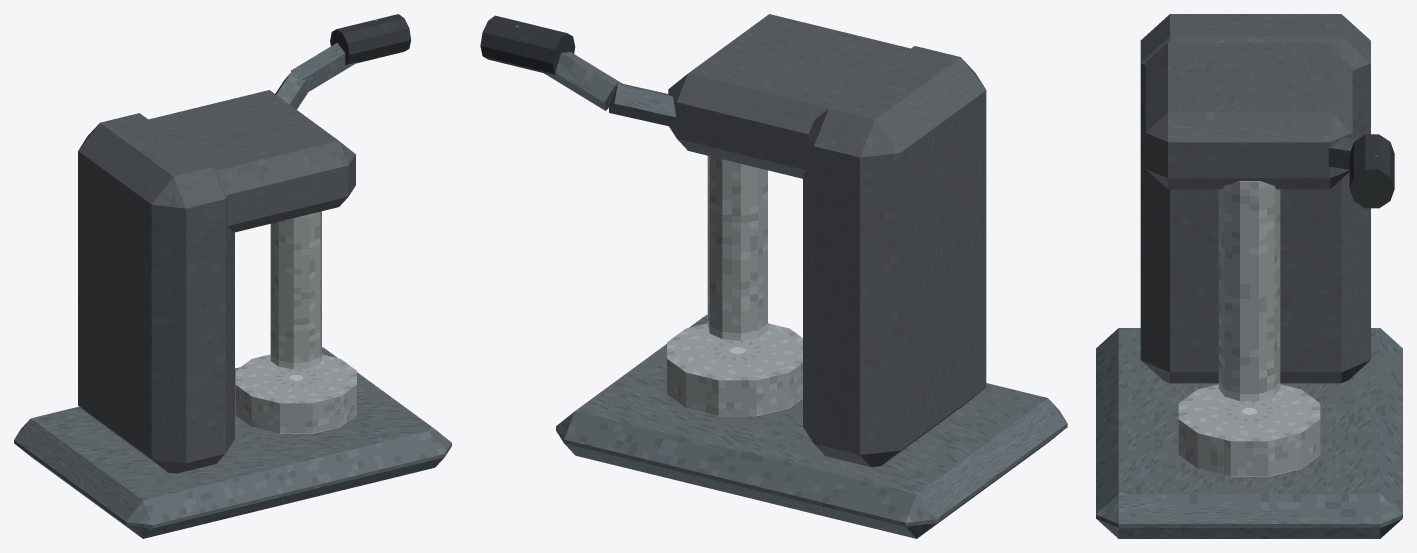
File: arbor_press.glb
3 renders of one model, left to right at view 1: azimuth 30°, elevation 25°; view 2: azimuth 150°, elevation 25°; view 3: azimuth 270°, elevation 25°, orthographic. The views are drawn at different scales.
Parts seen in each view (by area): view 1: block_upright frame, block_cast base, block_cantilever head, block_round die or tin holder, block_vertical press shaft, block_handgrip, block_hand lever 1, block_hand lever 0; view 2: block_upright frame, block_cast base, block_cantilever head, block_vertical press shaft, block_round die or tin holder, block_handgrip, block_hand lever 1, block_hand lever 0; view 3: block_upright frame, block_cast base, block_cantilever head, block_vertical press shaft, block_round die or tin holder, block_handgrip, block_hand lever 0.
Part boxes in pixels (x1,y1,x2,y2): block_upright frame: (78, 113, 234, 473); block_cast base: (14, 347, 451, 538); block_cantilever head: (148, 90, 355, 232); block_round die or tin holder: (235, 354, 356, 433); block_vertical press shaft: (270, 211, 321, 369); block_handgrip: (330, 14, 410, 64); block_hand lever 1: (291, 19, 385, 92); block_hand lever 0: (275, 71, 307, 109); block_upright frame: (803, 46, 986, 467); block_cast base: (556, 314, 1067, 538); block_cantilever head: (668, 14, 910, 178); block_vertical press shaft: (707, 156, 767, 340); block_round die or tin holder: (667, 323, 802, 416); block_handgrip: (480, 15, 575, 74); block_hand lever 1: (515, 25, 622, 110); block_hand lever 0: (609, 83, 675, 126); block_upright frame: (1140, 14, 1370, 383); block_cast base: (1096, 328, 1402, 538); block_cantilever head: (1145, 42, 1352, 189); block_vertical press shaft: (1218, 181, 1280, 401); block_round die or tin holder: (1178, 384, 1320, 476); block_handgrip: (1349, 134, 1394, 208); block_hand lever 0: (1328, 137, 1357, 169).
Bounding box in the file's own units: 0.29 × 0.2558 × 0.1721.
Materials: 1 (1 with a texture image).
